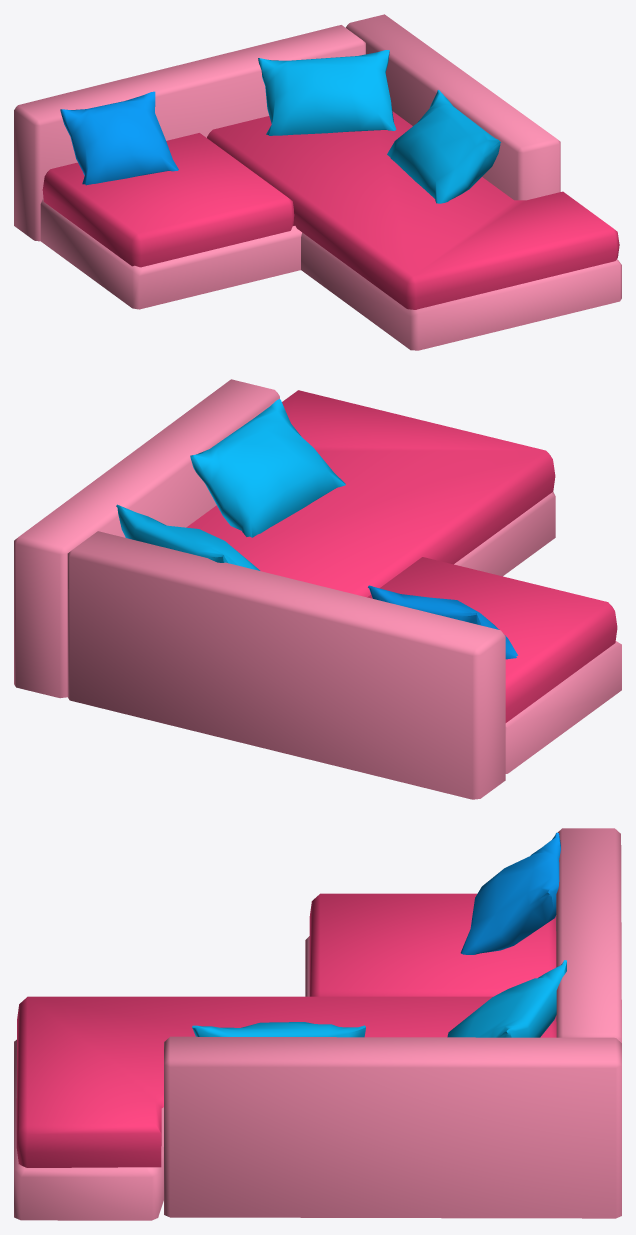
File: sofa_017.glb
3 renders of one model, top to bottom at view 1: azimuth 30°, elevation 25°; view 2: azimuth 150°, elevation 25°; view 3: azimuth 270°, elevation 25°, orthographic. The views are drawn at different scales.
Visible parts, largest first — view 1: sofa_017; view 2: sofa_017; view 3: sofa_017.
Part boxes in pixels (x1,y1,x2,y2): sofa_017: (14, 14, 621, 350); sofa_017: (14, 379, 621, 799); sofa_017: (14, 828, 621, 1220).
Size of the model in its own units: 1.92 by 0.6136 by 2.05.
Materials: 1 (1 with a texture image).
